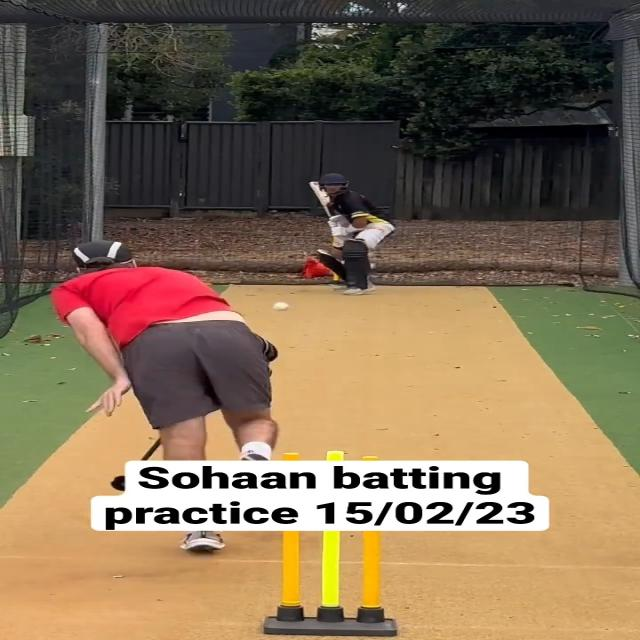ball: (272, 301, 290, 313)
stump: (265, 529, 394, 635)
